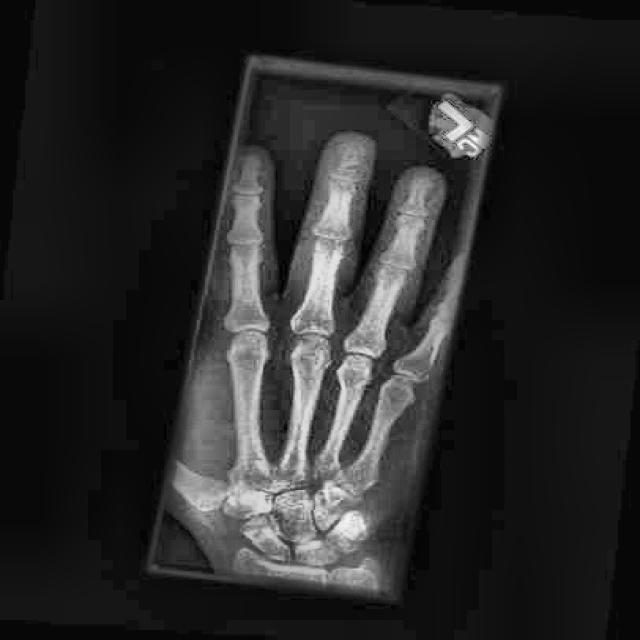fingers positive: (321, 143, 372, 207)
